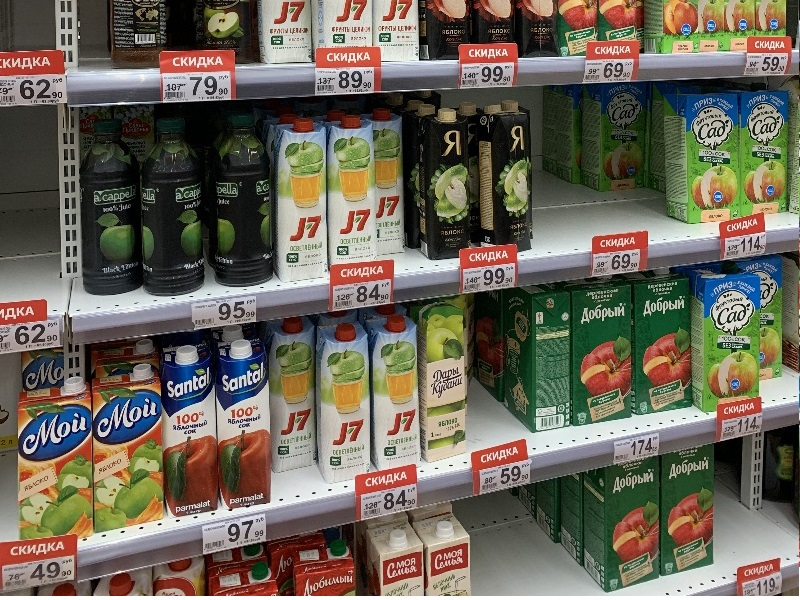juice: (85, 363, 170, 535), (660, 85, 753, 235), (13, 375, 95, 543), (156, 342, 224, 522), (306, 320, 380, 484), (689, 259, 768, 410), (570, 272, 643, 434), (215, 339, 277, 513), (627, 264, 695, 422), (271, 117, 334, 285), (318, 113, 382, 269), (265, 313, 324, 479), (477, 103, 541, 256), (418, 106, 474, 264), (367, 314, 424, 463)
